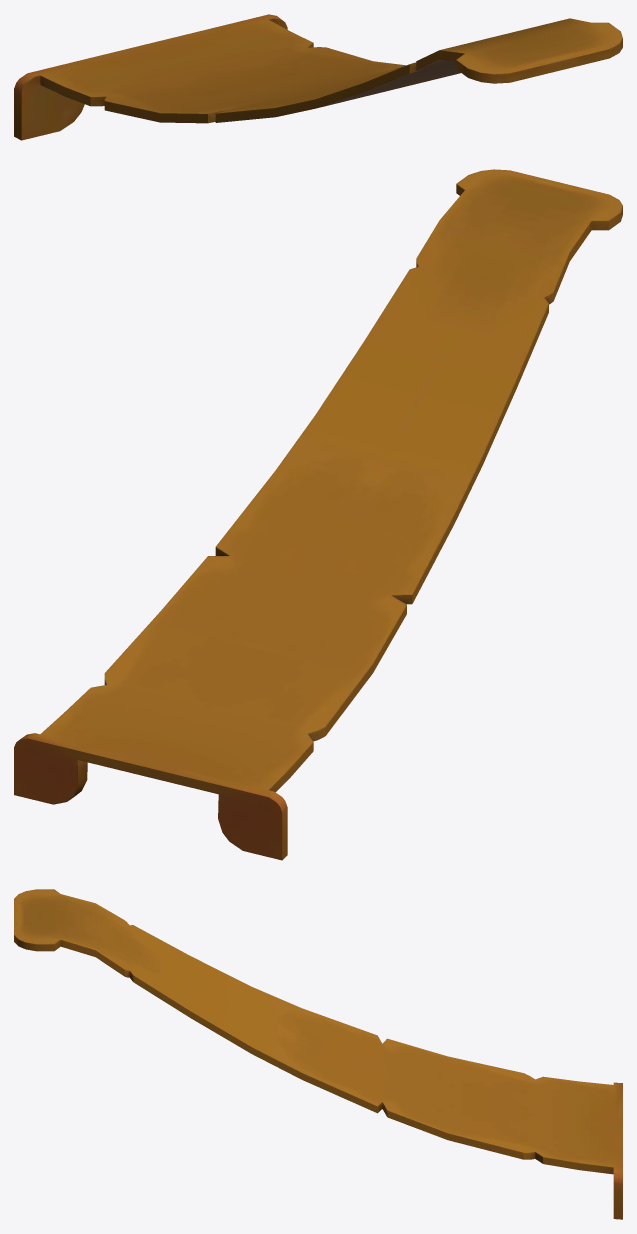
File: OBJ_FLAG_C_01.obj
3 views of the same model, one above another, from view 1: azimuth 30°, elevation 25°; view 2: azimuth 150°, elevation 25°; view 3: azimuth 270°, elevation 25° (orthographic). The views are drawn at different scales.
Parts seen in each view (by area): view 1: OBJ_FLAG_C_01; view 2: OBJ_FLAG_C_01; view 3: OBJ_FLAG_C_01.
Boxes of the visible parts, left/top/right/bottom form: OBJ_FLAG_C_01: left=14, top=14, right=622, bottom=140; OBJ_FLAG_C_01: left=14, top=169, right=622, bottom=860; OBJ_FLAG_C_01: left=14, top=889, right=622, bottom=1219.
Bounding box in the file's own units: 3.43 × 4.2 × 9.11.
Materials: 1 (1 with a texture image).
